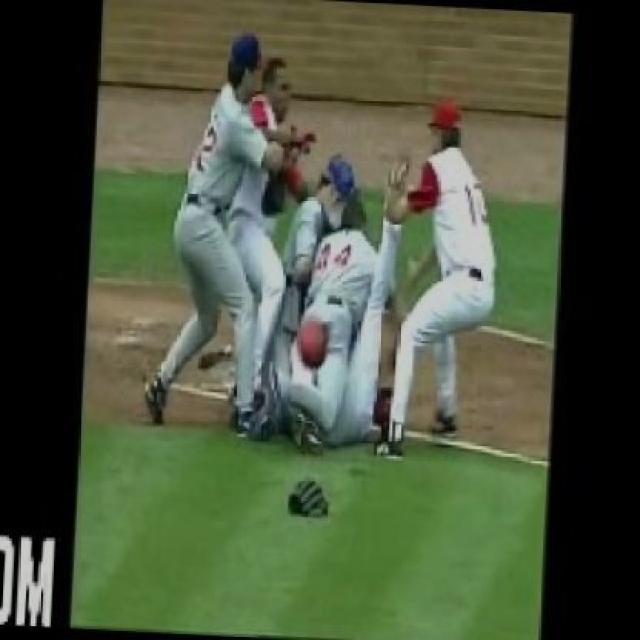fight: (146, 25, 398, 452)
non-fight: (368, 101, 510, 457)
